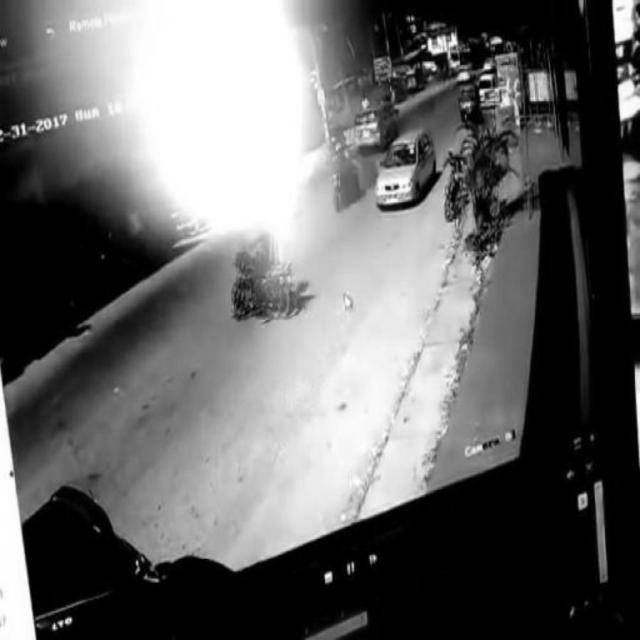vehicle: (234, 212, 296, 320), (375, 131, 437, 205), (323, 135, 365, 218)
